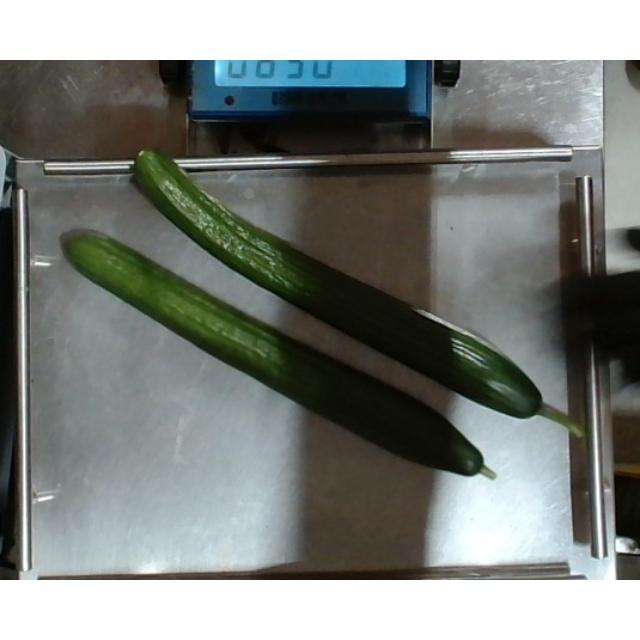cucumber: (132, 143, 590, 441), (58, 226, 500, 482)
